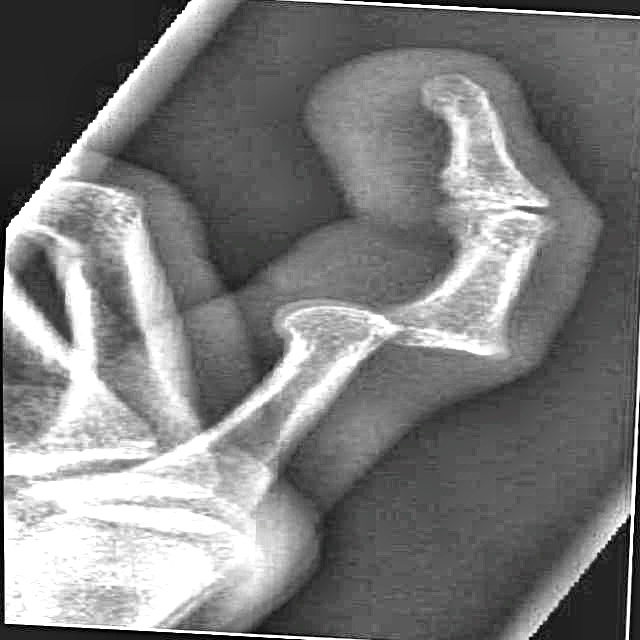Transverse: (223, 285, 543, 386)
